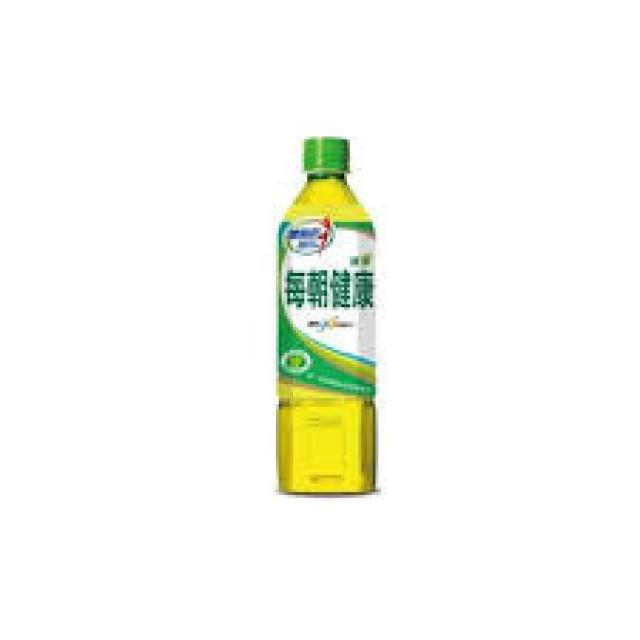MeiChou_GreenTea: (262, 126, 396, 508)
